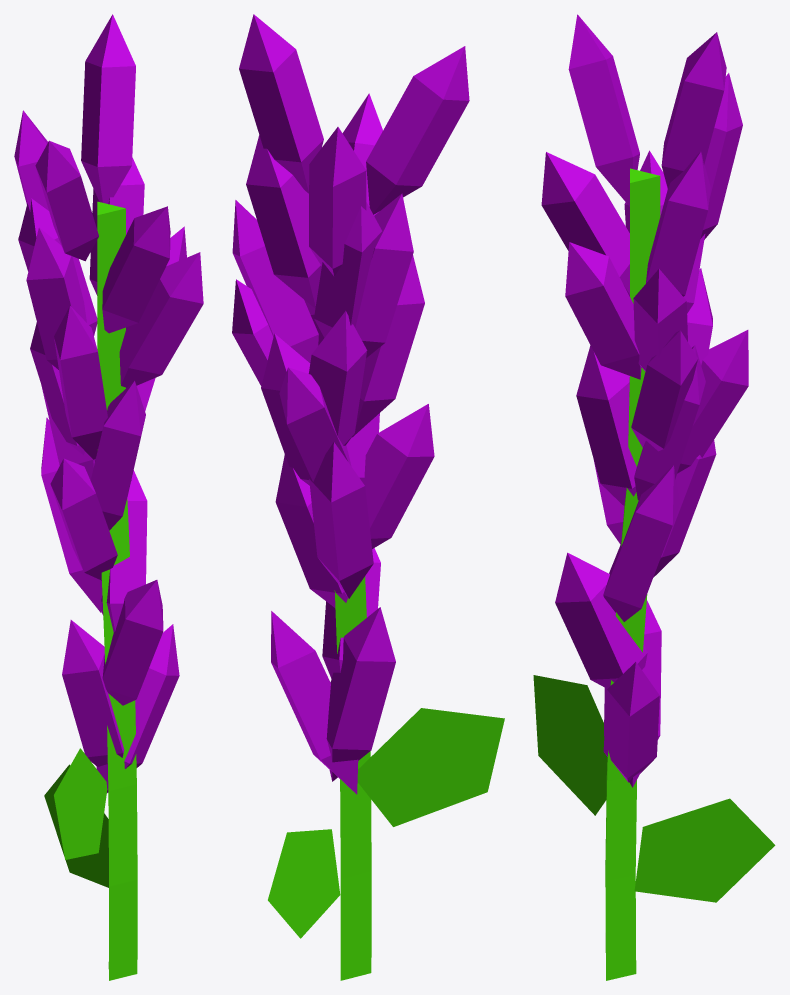
The model's file is Lavender.fbx.
3 renders of one model, left to right at view 1: azimuth 30°, elevation 25°; view 2: azimuth 150°, elevation 25°; view 3: azimuth 270°, elevation 25°, orthographic. The views are drawn at different scales.
Parts seen in each view (by area): view 1: Cylinder, Sphere.019, Sphere.004, Circle, Sphere.016, Sphere.003, Sphere.008, Sphere.009, Sphere.001, Sphere.011, Sphere.018, Sphere.015 (+9 smaller); view 2: Circle, Sphere.018, Sphere.019, Cylinder, Sphere.008, Sphere.020, Sphere.010, Sphere.011, Sphere.017, Sphere.007, Sphere.014, Sphere.015 (+10 smaller); view 3: Circle, Cylinder, Sphere.018, Sphere.009, Sphere.004, Sphere.016, Sphere.001, Sphere.013, Sphere.019, Sphere.020, Sphere.007, Sphere.002 (+10 smaller).
Part boxes in pixels (left/top/right/bottom): Cylinder: left=97, top=201, right=137, bottom=980; Sphere.019: left=81, top=14, right=135, bottom=203; Sphere.004: left=119, top=252, right=203, bottom=388; Circle: left=44, top=748, right=108, bottom=887; Sphere.016: left=102, top=206, right=170, bottom=333; Sphere.003: left=54, top=306, right=107, bottom=459; Sphere.008: left=62, top=620, right=124, bottom=766; Sphere.009: left=102, top=580, right=163, bottom=705; Sphere.001: left=90, top=381, right=145, bottom=530; Sphere.011: left=50, top=458, right=117, bottom=580; Sphere.018: left=35, top=140, right=98, bottom=261; Sphere.015: left=26, top=227, right=86, bottom=369; Circle: left=268, top=708, right=504, bottom=938; Sphere.018: left=366, top=46, right=469, bottom=214; Sphere.019: left=239, top=14, right=323, bottom=193; Cylinder: left=334, top=576, right=371, bottom=980; Sphere.008: left=326, top=607, right=395, bottom=781; Sphere.020: left=246, top=135, right=321, bottom=308; Sphere.010: left=309, top=442, right=373, bottom=598; Sphere.011: left=362, top=404, right=434, bottom=548; Sphere.017: left=309, top=127, right=366, bottom=276; Sphere.007: left=271, top=611, right=358, bottom=794; Sphere.014: left=232, top=200, right=318, bottom=362; Sphere.015: left=355, top=193, right=413, bottom=357; Circle: left=533, top=675, right=775, bottom=902; Cylinder: left=605, top=168, right=660, bottom=980; Sphere.018: left=568, top=14, right=639, bottom=206; Sphere.009: left=555, top=552, right=647, bottom=688; Sphere.004: left=565, top=242, right=641, bottom=379; Sphere.016: left=541, top=152, right=629, bottom=296; Sphere.001: left=576, top=345, right=636, bottom=505; Sphere.013: left=603, top=465, right=679, bottom=621; Sphere.019: left=661, top=32, right=726, bottom=188; Sphere.020: left=646, top=152, right=710, bottom=296; Sphere.007: left=603, top=662, right=659, bottom=782; Sphere.002: left=631, top=330, right=697, bottom=451.
Size of the model in its own units: 53.43 by 241 by 54.87.
